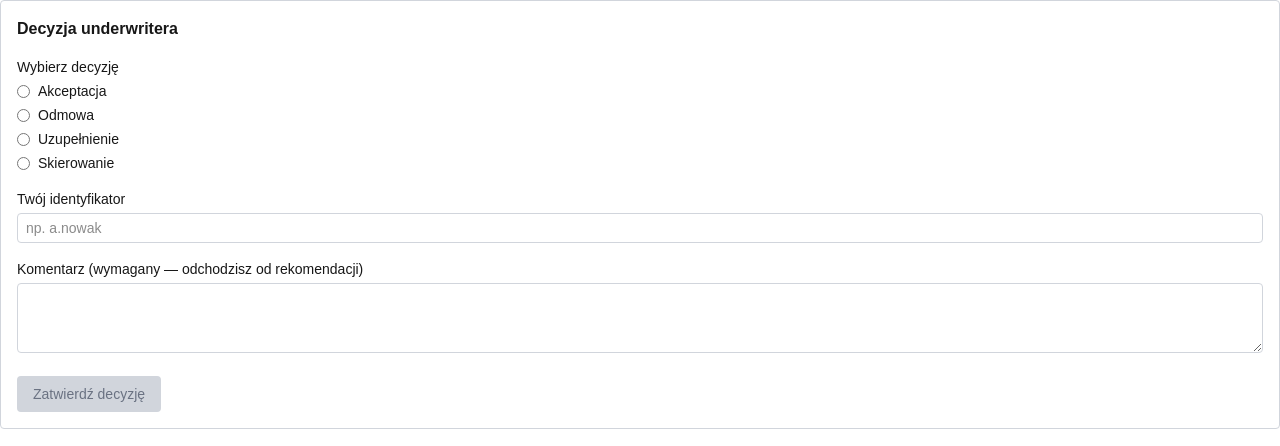
DecisionForm › gdy wybrana decyzja ZGADZA SIE z rekomendacja i silnikiem - komentarz opcjonalny, przycisk aktywny bez komentarza
Step 1. Click the radio button labelled "Skierowanie" → (24, 163), box x1=17 y1=156 x2=30 y2=170
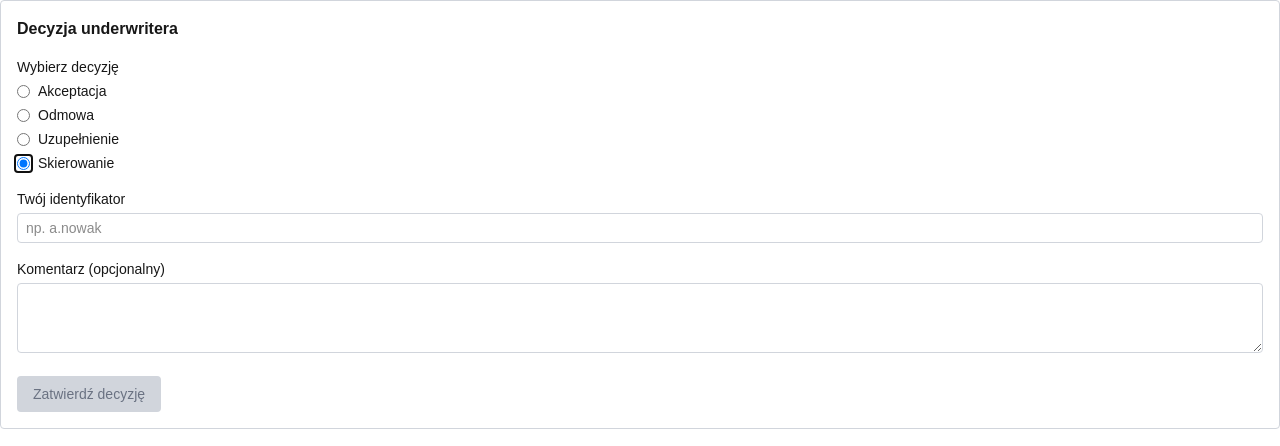
Step 2. Type "test.manual" into the field labelled "Twój identyfikator" → (640, 228), box x1=17 y1=213 x2=1263 y2=243
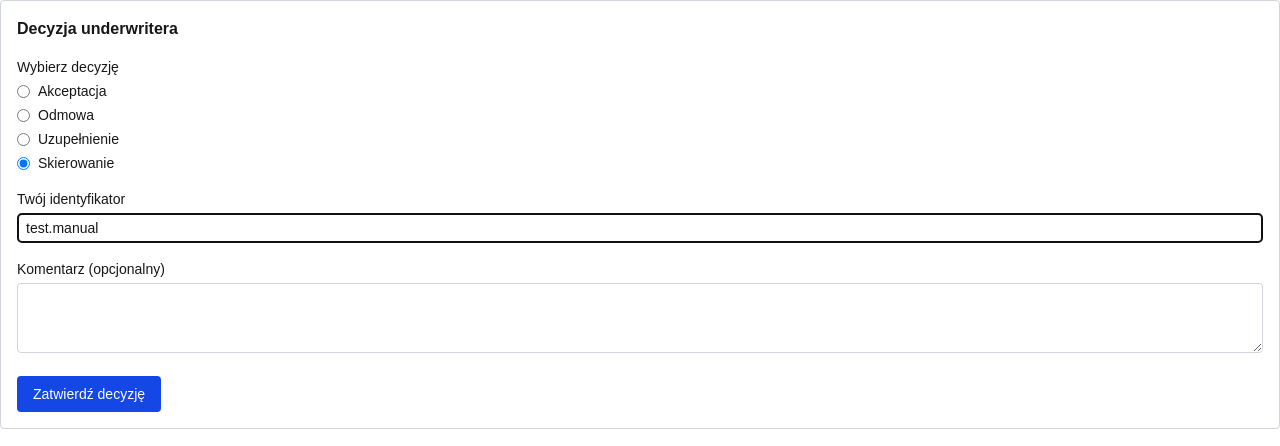
Check: the text "Komentarz (opcjonalny)" is shown, box x1=17 y1=261 x2=165 y2=277
Check: the button "Zatwierdź decyzję" is enabled, box x1=17 y1=376 x2=161 y2=412
